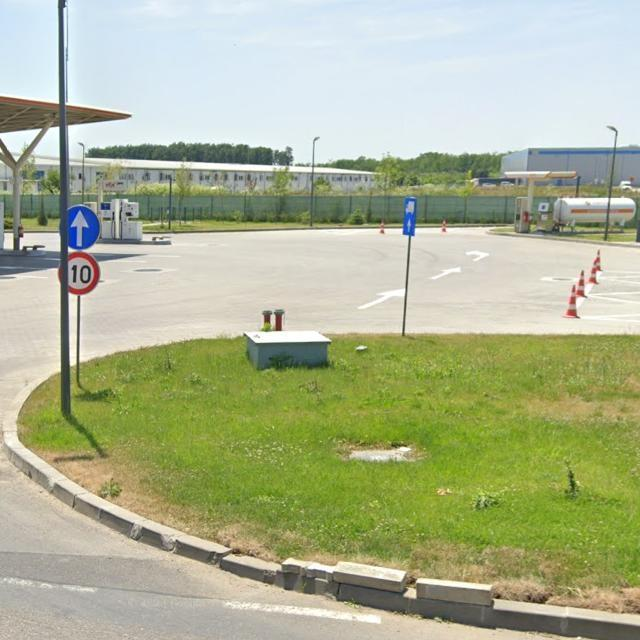forb_speed_over_10: (66, 252, 100, 294)
